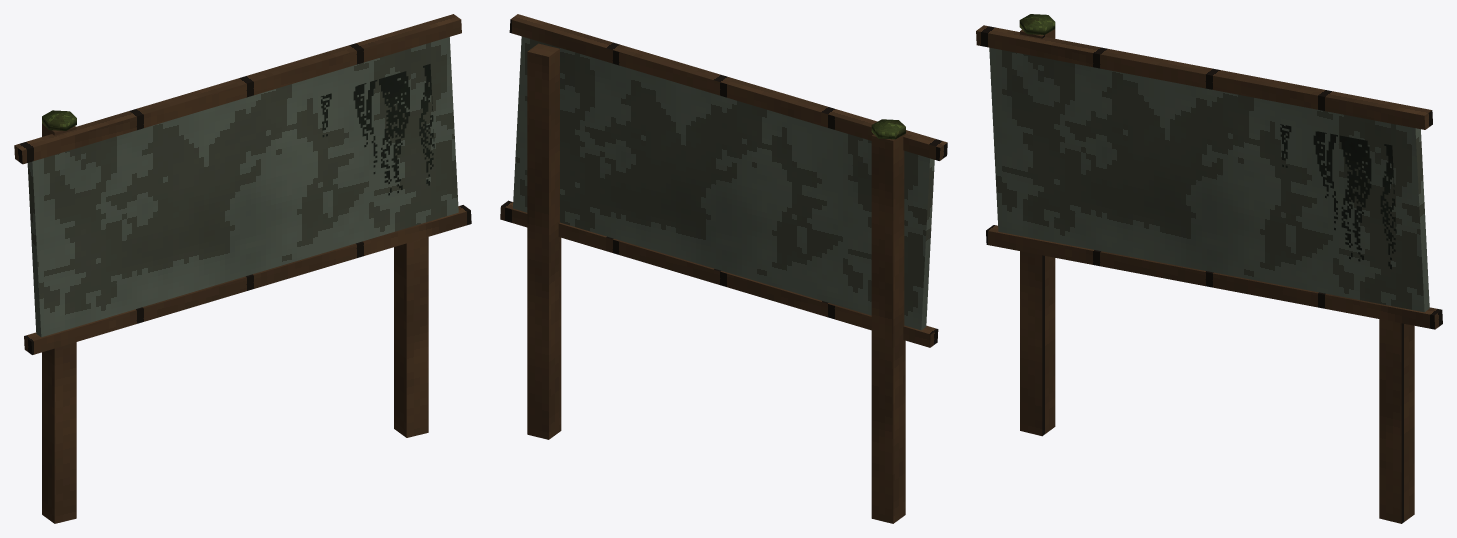
Rendered from park_sign.glb.
3 views of the same model, side by side, from view 1: azimuth 30°, elevation 25°; view 2: azimuth 150°, elevation 25°; view 3: azimuth 330°, elevation 25° (orthographic). The views are drawn at different scales.
Visible parts, largest first — view 1: detail, posts-col; view 2: detail, posts-col; view 3: detail, posts-col.
Part boxes in pixels (box(x1,y1,x2,y2)): detail: box(14, 14, 471, 354); posts-col: box(42, 123, 428, 523); detail: box(500, 14, 947, 347); posts-col: box(527, 43, 905, 523); detail: box(976, 14, 1442, 329); posts-col: box(1020, 29, 1414, 523).
Size of what is drawn, in the model's own units: 2.04 by 1.78 by 0.1623.
Materials: 4 (4 with a texture image).
